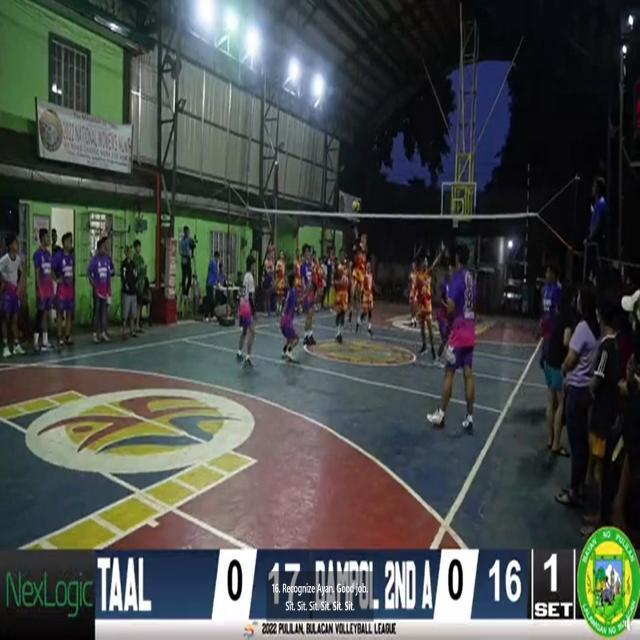volleyball: (352, 200, 362, 212)
